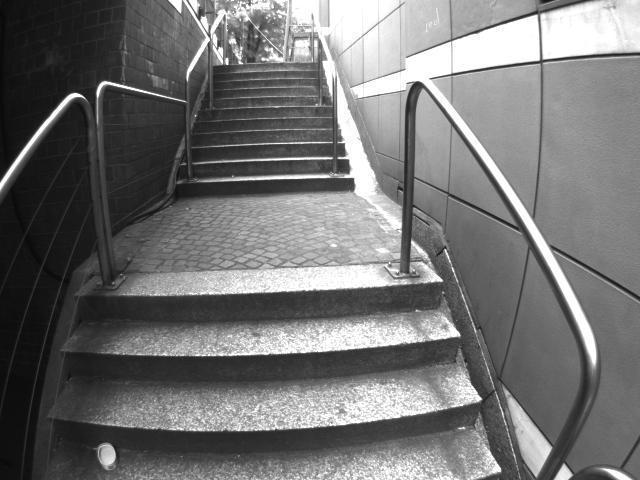Escaleras: (58, 263, 517, 479), (160, 49, 360, 187)
